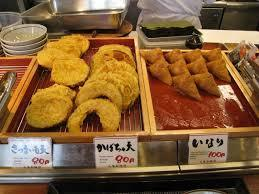pumpkin: (72, 100, 119, 134), (78, 82, 122, 114)
